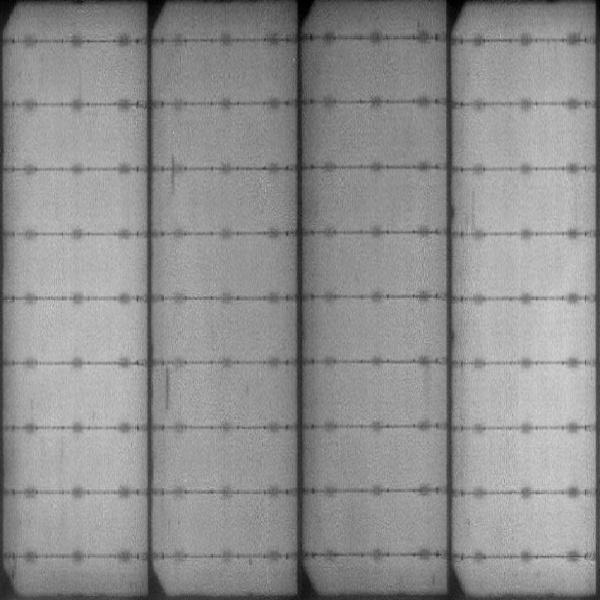scratch: (166, 153, 181, 192), (161, 368, 173, 411)
